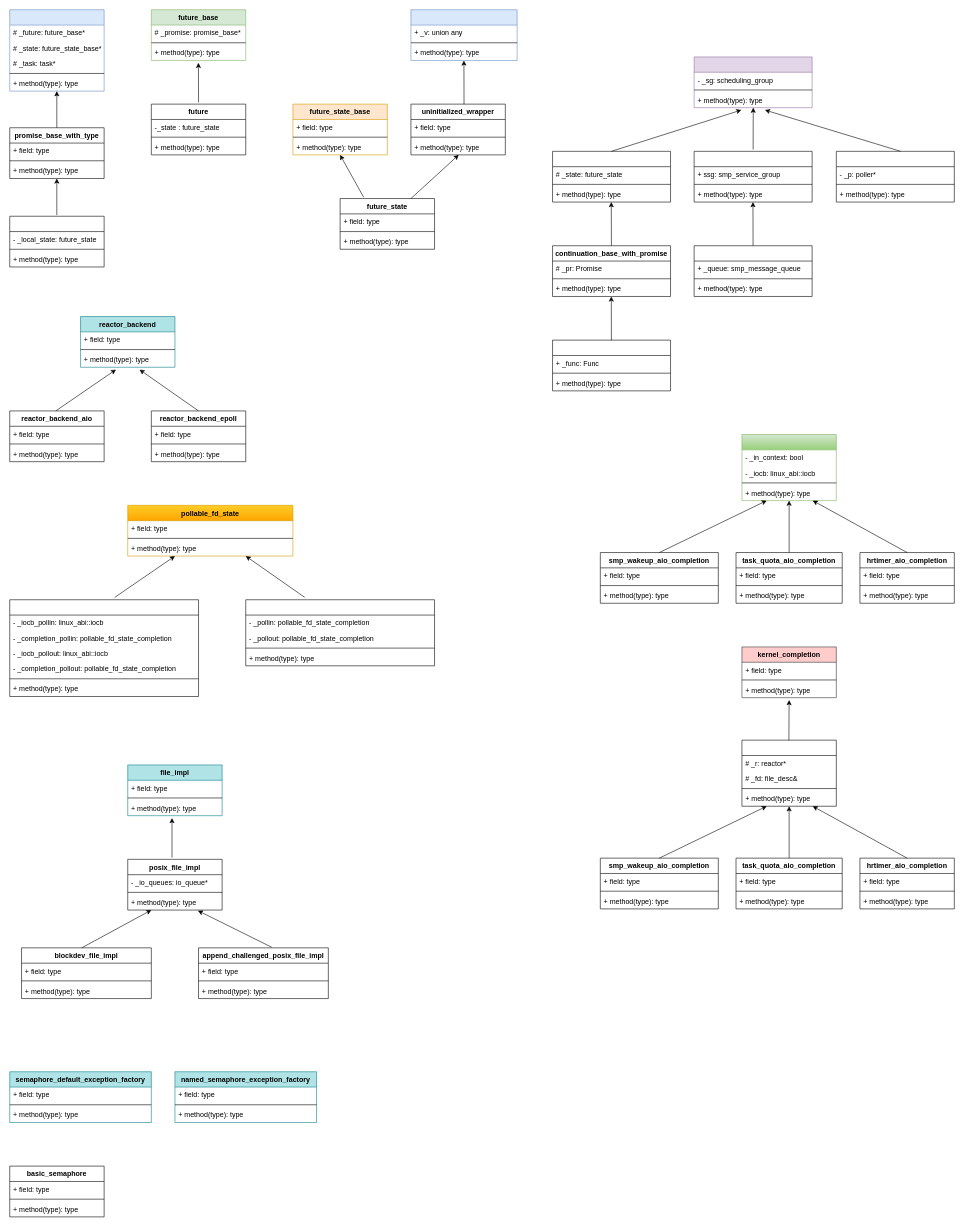
Image size: 964x1227. Some labels were removed from this diagram. Each missing label, with the box of its shape:
aio_pollable_fd_state: (9, 599, 199, 696)
async_work_item: (694, 245, 812, 296)
completion_with_iocb: (741, 434, 836, 501)
continuation: (552, 340, 671, 391)
continuation_base: (552, 151, 671, 202)
epoll_pollable_fd_state: (245, 599, 435, 666)
fd_kernel_completion: (741, 740, 836, 806)
promise: (9, 216, 104, 267)
promise_base: (9, 9, 104, 91)
registration_task: (836, 151, 954, 202)
task: (694, 56, 812, 108)
uninitialized_wrapper_base: (410, 9, 517, 60)
work_item: (694, 151, 812, 202)
